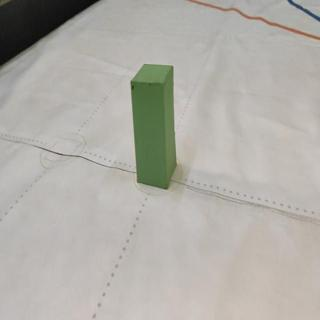greenbox: (129, 63, 177, 189)
